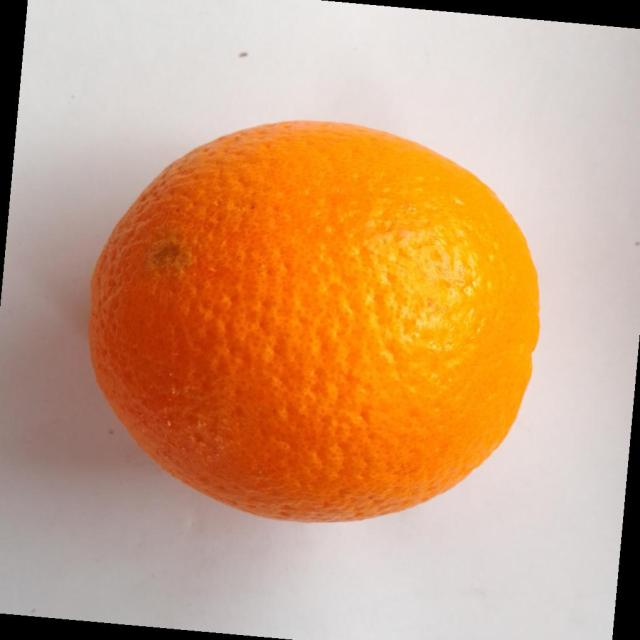fresh orange: (86, 118, 541, 524)
